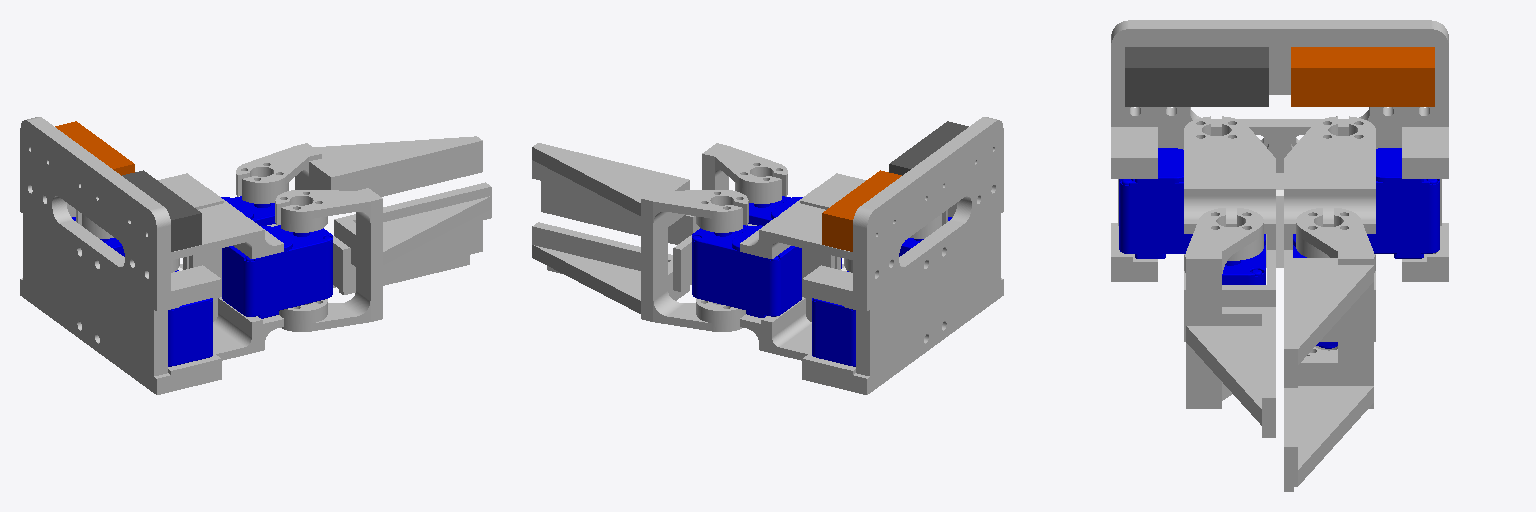
URDF robot description (fcs2310):
<?xml version="1.0"?>
<robot name="fcs2310">
  <link name="base">
    <visual name="base plate">
      <!-- <origin xyz="0.002 0 -0.01" /> -->
      <!-- <geometry> -->
      <!-- 	<box size="0.004 0.1 0.07"/> -->
      <!-- </geometry> -->
      <origin xyz="0 0 0.0022" rpy="-1.57079632675 0 -1.57079632675"/>
      <geometry>
	<mesh filename="package://fcs4hand2310/urdf/FCS4HAND2310_BASE.dae"/>
      </geometry>
      <material name="gray80">
	<color rgba="0.8 0.8 0.8 1.0"/>
      </material>
    </visual>
    <visual name="R30xxx (J00)">
      <origin xyz="0.060 -0.0358 0.035" rpy="0 0 1.57079632675"/>
      <geometry>
	<mesh filename="package://fcs4hand2310/urdf/RS30x_BottomShaft.dae"/>
      </geometry>
      <material name="blue">
	<color rgba="0.0 0.0 1.0 1.0"/>
      </material>
    </visual>
    <visual name="R30xxx (J10)">
      <origin xyz="-0.030 0.0356 0.035" rpy="0 0 -1.57079632675"/>
      <geometry>
	<mesh filename="package://fcs4hand2310/urdf/RS30x_BottomShaft.dae"/>
      </geometry>
      <material name="blue"/>
    </visual>
    <visual name="base LID">
      <origin xyz="0.025 0 0" rpy="1.57079632675 0 1.57079632675"/>
      <geometry>
	<mesh filename="package://fcs4hand2310/urdf/FCS4HAND2310_BASE_LID.dae"/>
      </geometry>
    </visual>
  </link>
  <link name="FG00">
    <visual name="FG00">
      <!-- <origin xyz="0.030 0.015 0.0"/> -->
      <!-- <geometry> -->
      <!-- 	<box size="0.060 0.003 0.040"/> -->
      <!-- </geometry> -->
      <origin xyz="0.0 0.033 0.025" rpy="3.141592653589793 0 1.57079632679489661923"/>
      <geometry>
	<mesh filename="package://fcs4hand2310/urdf/FCS4HAND2310_FINGER_ROOT_RH.dae"/>
      </geometry>
      <material name="gray80">
	<color rgba="0.8 0.8 0.8 1.0"/>
      </material>
    </visual>
    <visual name="RS3xxx (J01)">
      <origin xyz="0.0425 -0.041 0.035" rpy="0 0 0"/>
      <geometry>
	<mesh filename="package://fcs4hand2310/urdf/RS30x_BottomShaft.dae"/>
      </geometry>
      <material name="blue"/>
    </visual>
  </link>
  <link name="FG01">
    <visual name="FG01">
      <!-- <origin xyz="0.05 0.011 0.0"/> -->
      <!-- <geometry> -->
      <!-- 	<box size="0.050 0.003 0.015"/> -->
      <!-- </geometry> -->
      <origin xyz="0.0 0.0 -0.020" rpy="0 0 -1.57079632679489661923"/>
      <geometry>
	<mesh filename="package://fcs4hand2310/urdf/FCS4HAND2310_FINGER_EDGE_RH.dae"/>
      </geometry>
      <material name="gray80"/>
    </visual>
  </link>
  <link name="FG10">
    <visual name="FG10">
      <!-- <origin xyz="0.03 -0.015 0.0"/> -->
      <!-- <geometry> -->
      <!-- 	<box size="0.06 0.003 0.04"/> -->
      <!-- </geometry> -->
      <origin xyz="0.0 0.0 0.025" rpy="3.141592653589793 0 1.57079632679489661923"/>
      <geometry>
	<mesh filename="package://fcs4hand2310/urdf/FCS4HAND2310_FINGER_ROOT_LH.dae"/>
      </geometry>
      <material name="gray80"/>
    </visual>
    <visual name="RS3xxx (J11)">
      <!-- <origin xyz="0.0425 -0.041 0.035" rpy="0 0 0"/> -->
      <origin xyz="0.0425 -0.049 0.035" rpy="0 0 0"/>
      <geometry>
	<mesh filename="package://fcs4hand2310/urdf/RS30x_BottomShaft.dae"/>
      </geometry>
      <material name="blue"/>
    </visual>
  </link>
  <link name="FG11">
    <visual>
      <!-- <origin xyz="0.05 -0.011 0.016"/> -->
      <!-- <geometry> -->
      <!-- 	<box size="0.050 0.003 0.012"/> -->
      <!-- </geometry> -->
      <origin xyz="0.0 0.005 -0.020" rpy="0 0 -1.57079632679489661923"/>
      <geometry>
	<mesh filename="package://fcs4hand2310/urdf/FCS4HAND2310_FINGER_EDGE_LH.dae"/>
      </geometry>
      <material name="gray80"/>
    </visual>
    <visual>
      <origin xyz="0.05 -0.011 -0.016"/>
      <geometry>
	<box size="0.05 0.003 0.012"/>
      </geometry>
      <material name="gray80"/>
    </visual>
  </link>
  <link name="hub31x2">
    <visual name="TB-DF31DF (1/2)">
      <origin xyz="0 -0.023 0" rpy="0 0 0"/>
      <geometry>
	<box size="0.012 0.040 0.014"/>
      </geometry>
      <material name="gray40">
	<color rgba="0.4 0.4 0.4 1.0"/>
      </material>
    </visual>
    <visual name="TB-DF31DF (2/2)">
      <origin xyz="0  0.023 0" rpy="0 0 0"/>
      <geometry>
	<box size="0.012 0.040 0.014"/>
      </geometry>
    </visual>
  </link>
  <!-- <link name="hub71"> -->
  <!--   <visual name="TB-RV71EH (body)"> -->
  <!--     <!-\- <origin xyz="0.009 -0.010 -0.030" rpy="0 0 0"/> -\-> -->
  <!--     <origin xyz="0 0 0" rpy="0 0 0"/> -->
  <!--     <geometry> -->
  <!-- 	<box size="0.020 0.062 0.014"/> -->
  <!--     </geometry> -->
  <!--     <material name="gray40"> -->
  <!-- 	<color rgba="0.4 0.4 0.4 1.0"/> -->
  <!--     </material> -->
  <!--   </visual> -->
  <!--   <visual name="TB-RV71EH (switch)"> -->
  <!--     <!-\- <origin xyz="0.012 -0.024 -0.024" rpy="0 0 0"/> -\-> -->
  <!--     <origin xyz="0.003 0.014  0.006" rpy="0 0 0"/> -->
  <!--     <geometry> -->
  <!-- 	<box size="0.006 0.014 0.020"/> -->
  <!--     </geometry> -->
  <!--     <material name="gray40"/> -->
  <!--   </visual> -->
  <!-- </link> -->
  <!-- <link name="PET bottle"> -->
  <!--   <visual> -->
  <!--     <geometry> -->
  <!-- 	<cylinder length="0.230" radius="0.035"/> -->
  <!--     </geometry> -->
  <!--     <material name="orange"> -->
  <!-- 	<color rgba="1.0 0.647 0.0 1.0"/> -->
  <!--     </material> -->
  <!--   </visual> -->
  <!-- </link> -->
  <joint name="hndj00" type="revolute">
    <origin xyz="0.0155 -0.0175 0.0"/>
    <axis xyz="0 0 1"/>
    <parent link="base"/>
    <child link="FG00"/>
    <limit effort="30" velocity="1.0" lower="-1.57079632679489661923" upper="0"/>
  </joint>
  <joint name="hndj01" type="revolute">
    <origin xyz="0.061 0.004 0.0"/>
    <axis xyz="0 0 1"/>
    <parent link="FG00"/>
    <child link="FG01"/>
    <limit effort="30" velocity="1.0" lower="-2.61799387799149436538" upper="2.61799387799149436538"/>
  </joint>
  <joint name="hndj10" type="revolute">
    <origin xyz="0.0155 0.0175 0.0"/>
    <axis xyz="0 0 1"/>
    <parent link="base"/>
    <child link="FG10"/>
    <limit effort="30" velocity="1.0" lower="0" upper="1.57079632679489661923"/>
  </joint>
  <joint name="hndj11" type="revolute">
    <origin xyz="0.061 -0.004 0.0"/>
    <axis xyz="0 0 1"/>
    <parent link="FG10"/>
    <child link="FG11"/>
    <limit effort="30" velocity="1.0" lower="-2.61799387799149436538" upper="2.61799387799149436538"/>
  </joint>
  <joint name="hub" type="fixed">
    <origin xyz="0.013 0 0.040" rpy="0 1.57079632679489661923 0"/> 
    <parent link="base"/>
    <child link="hub31x2"/>
  </joint>
  <!-- <joint name="hub" type="fixed"> -->
  <!--   <origin xyz="0.013 0 0.041" rpy="0 1.57079632679489661923 0"/> -->
  <!--   <parent link="base"/> -->
  <!--   <child link="hub71"/> -->
  <!-- </joint> -->
  <!-- <joint name="PET bottle" type="fixed"> -->
  <!--   <origin xyz="0.068 0 0"/> -->
  <!--   <parent link="base"/> -->
  <!--   <child link="PET bottle"/> -->
  <!-- </joint> -->
  
</robot>

--- Facts derived from the render (not from the file) ---
The picture shows the robot from 3 angles, left to right: view 1: azimuth 30°, elevation 25°; view 2: azimuth 150°, elevation 25°; view 3: azimuth 270°, elevation 25°; orthographic projection.
Model fcs2310 with 6 links and 5 joints (4 revolute, 1 fixed), rooted at base, posed every joint at zero.
Visible links, largest first — view 1: base, FG00, FG11, FG01, hub31x2, FG10; view 2: base, FG11, FG10, FG01, hub31x2, FG00; view 3: base, FG11, hub31x2, FG01, FG00, FG10.
Link boxes in pixels (<box>): base: <box>20,117,221,394</box>; FG00: <box>171,203,350,360</box>; FG11: <box>236,136,482,294</box>; FG01: <box>275,182,491,331</box>; hub31x2: <box>55,121,201,251</box>; FG10: <box>76,173,276,269</box>; base: <box>802,117,1003,394</box>; FG11: <box>532,143,748,331</box>; FG10: <box>673,203,852,360</box>; FG01: <box>541,143,787,244</box>; hub31x2: <box>822,121,968,251</box>; FG00: <box>748,173,947,269</box>; base: <box>1111,20,1448,281</box>; FG11: <box>1284,208,1373,491</box>; hub31x2: <box>1125,47,1434,106</box>; FG01: <box>1186,208,1275,437</box>; FG00: <box>1184,116,1275,341</box>; FG10: <box>1284,116,1375,348</box>.
Bounding box of the posed robot: 0.1565 × 0.0934 × 0.0732 m (x, y, z).
10 mesh visuals loaded from 7 distinct referenced files (7 Collada DAE).
